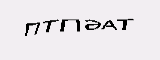И: (98, 9, 115, 37)
П: (51, 7, 74, 37), (76, 7, 98, 36)
С: (115, 15, 128, 39)
Т: (34, 10, 55, 37)
